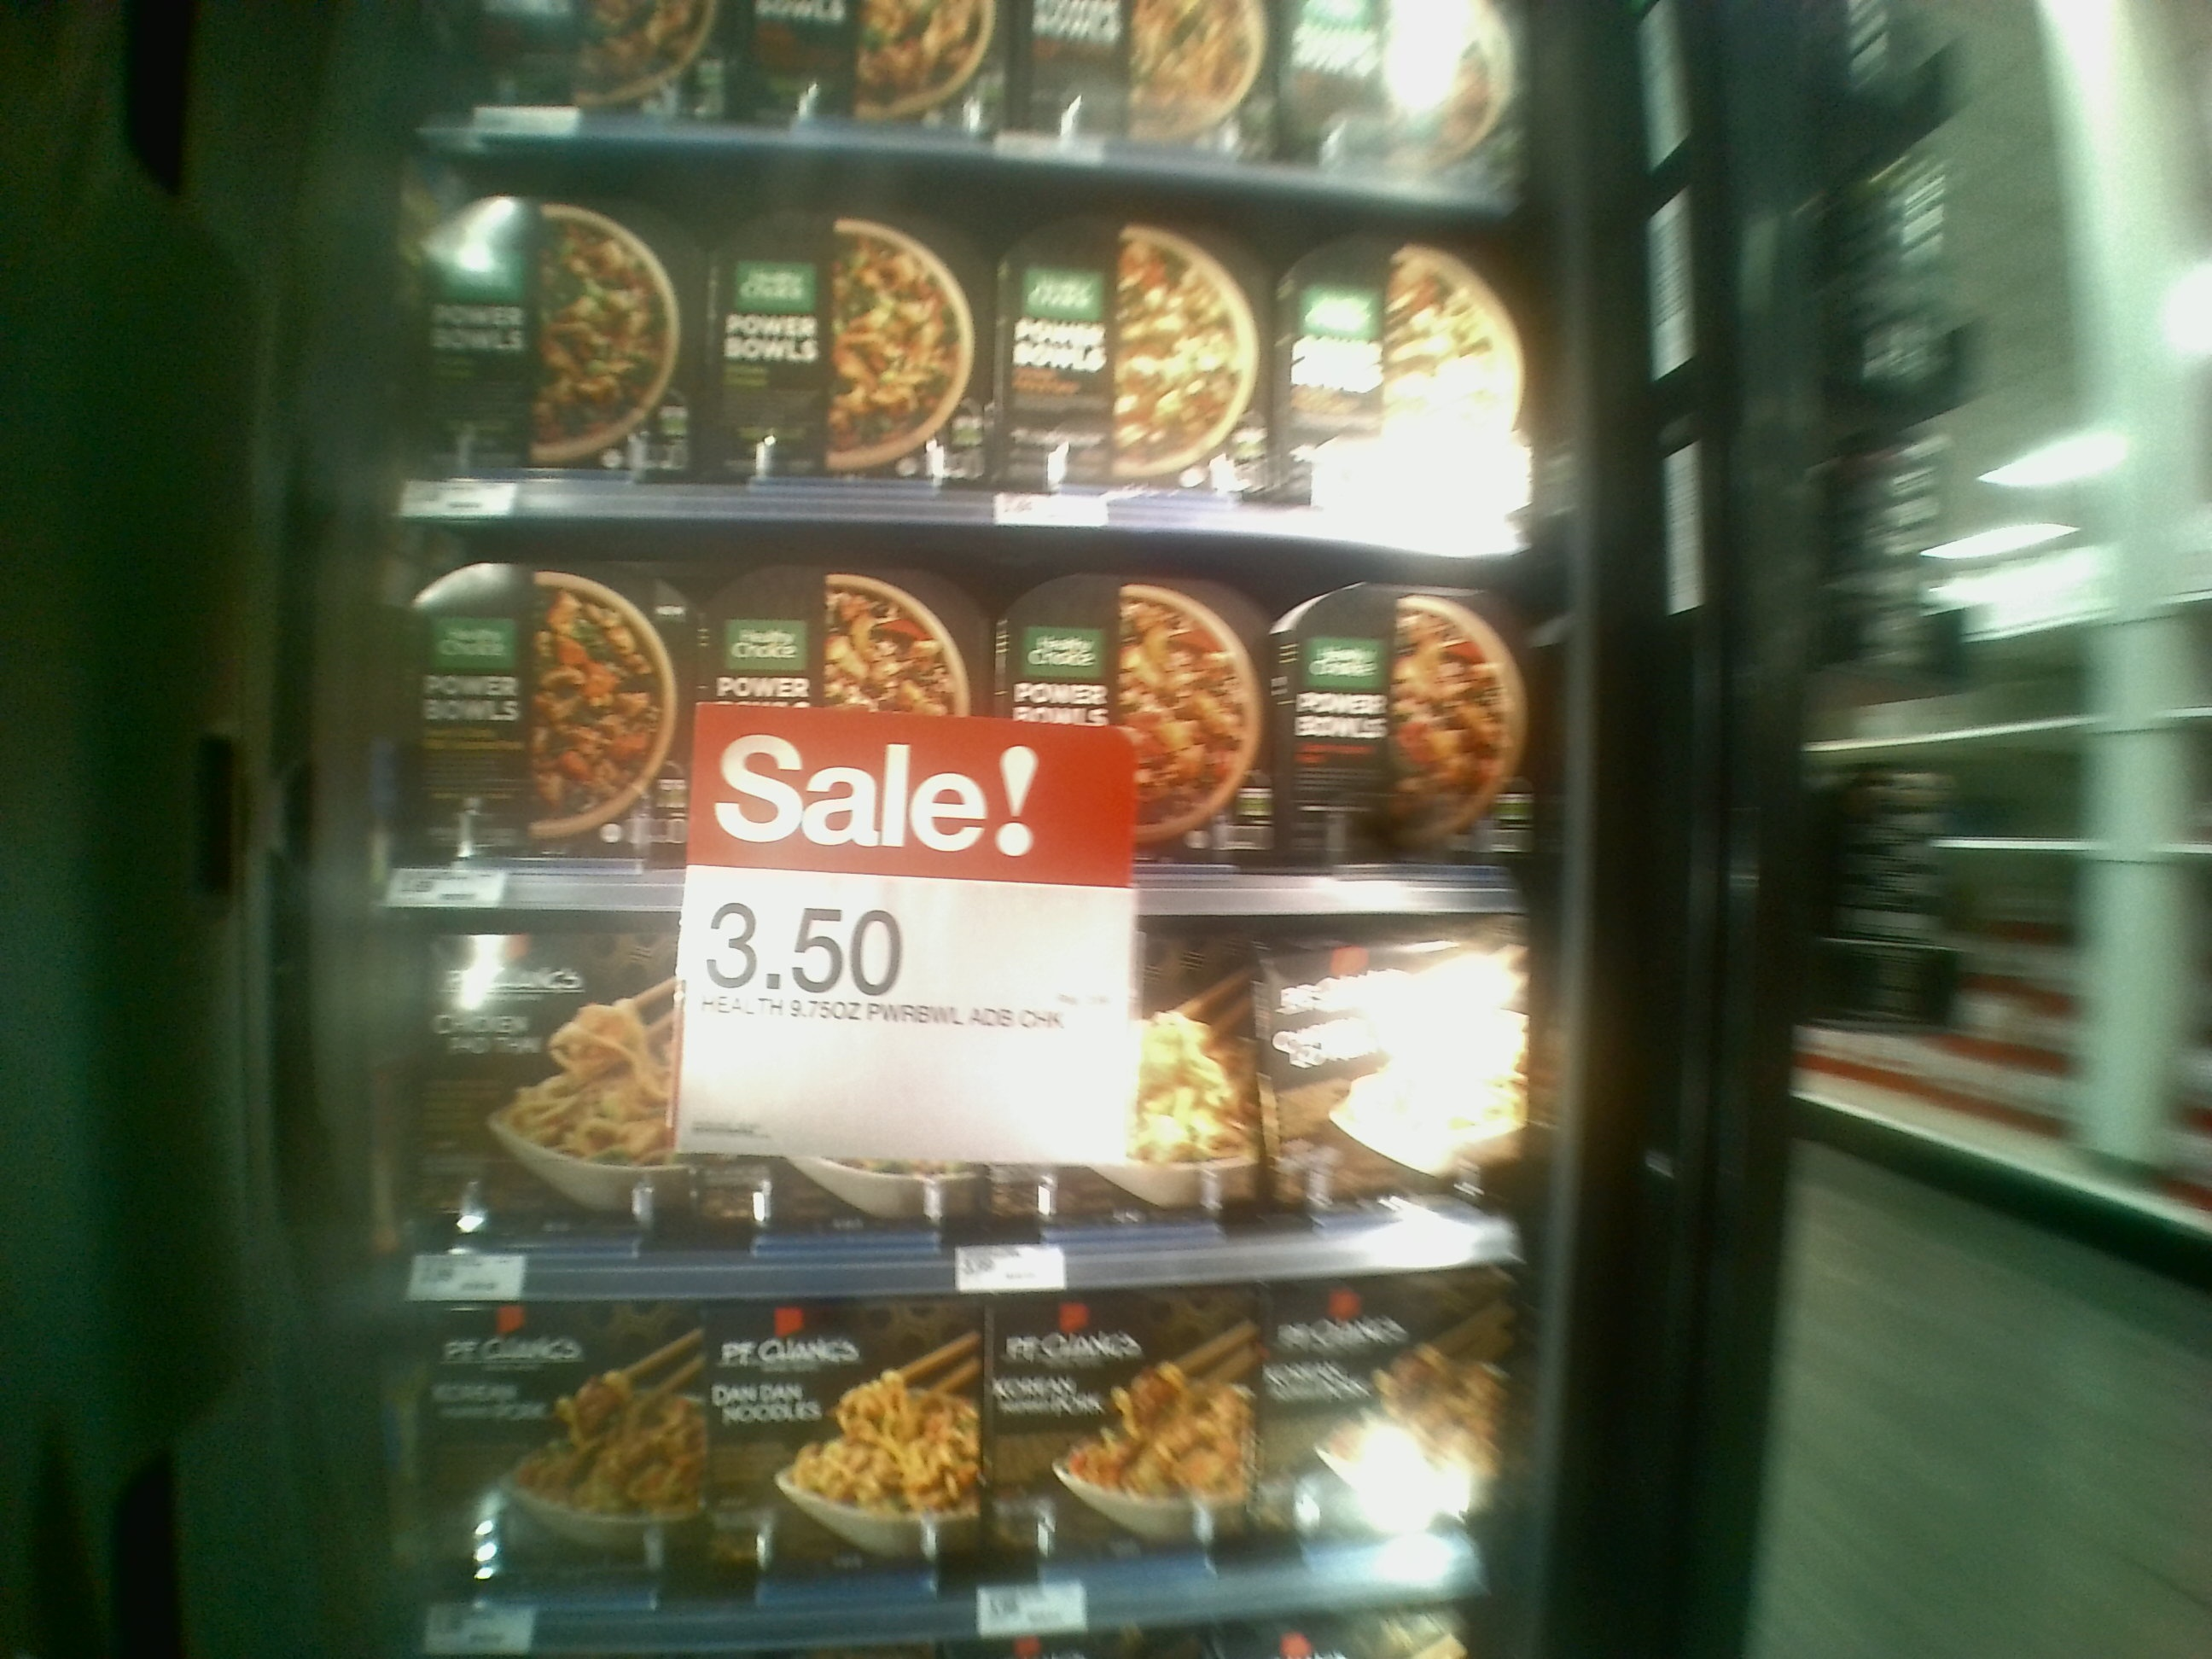shelf: (378, 141, 1555, 561), (381, 518, 1521, 922)
